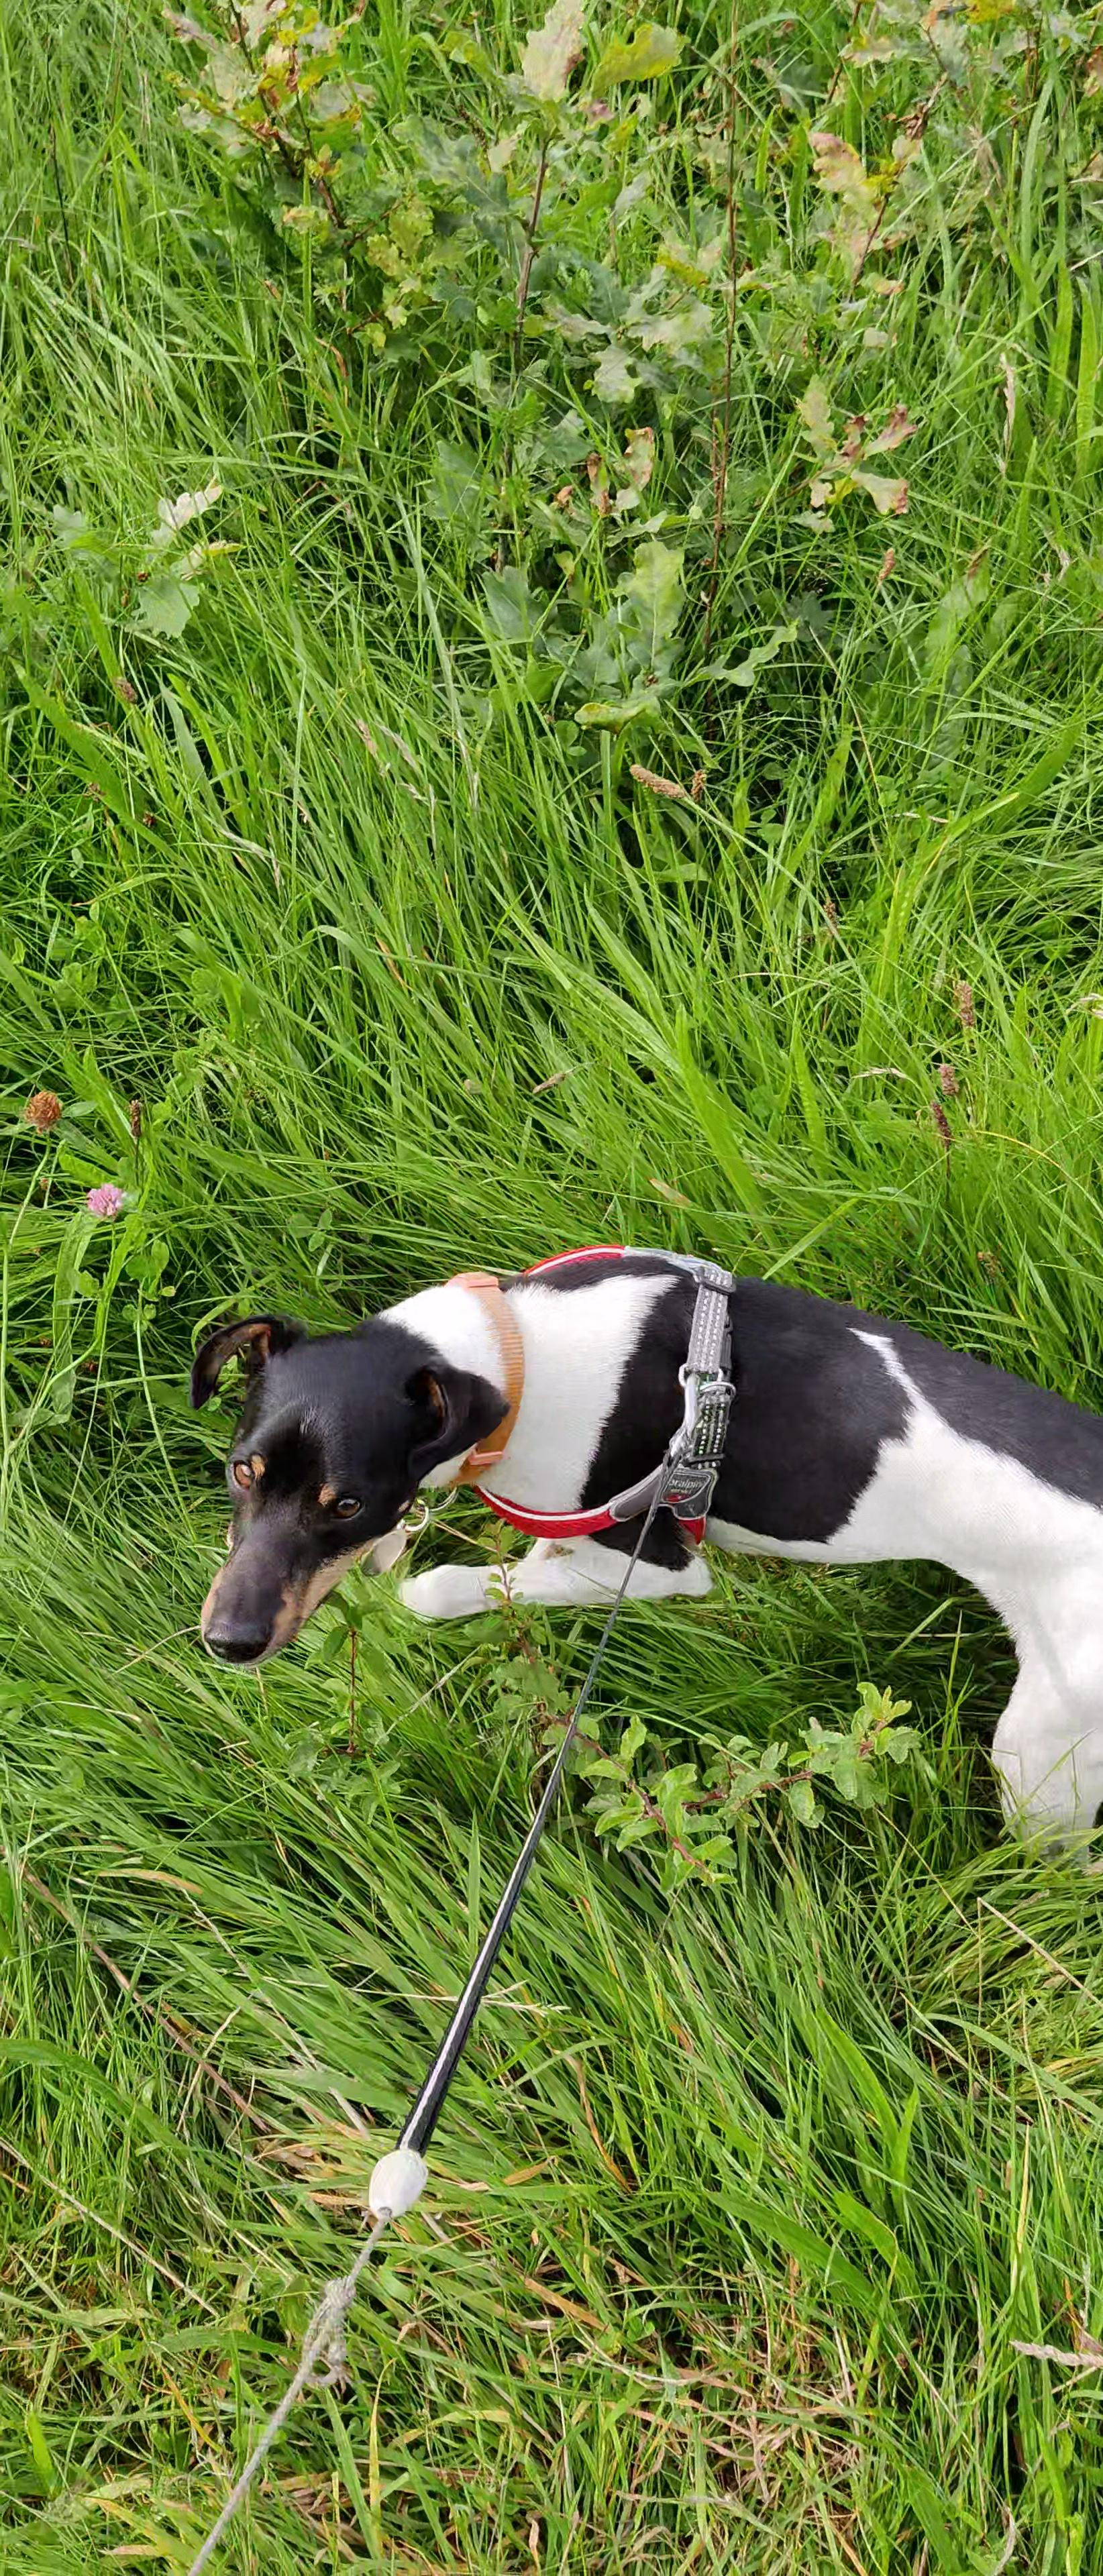Dog: (173, 1229, 1103, 1873)
